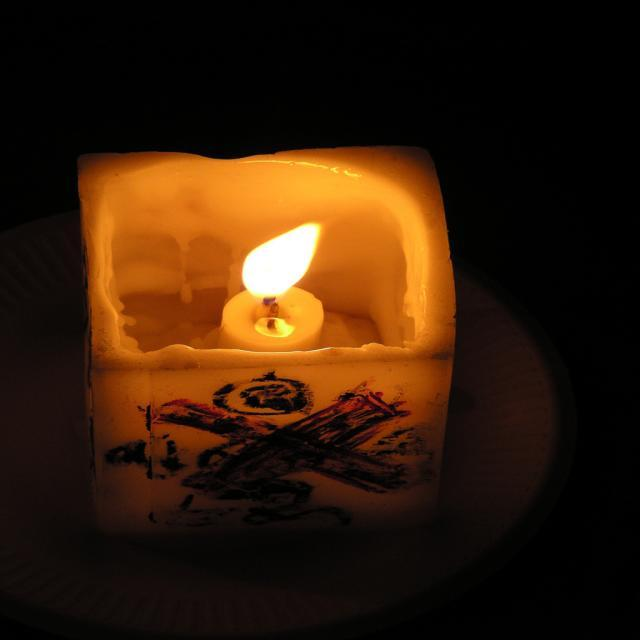Fire: (246, 239, 300, 297)
